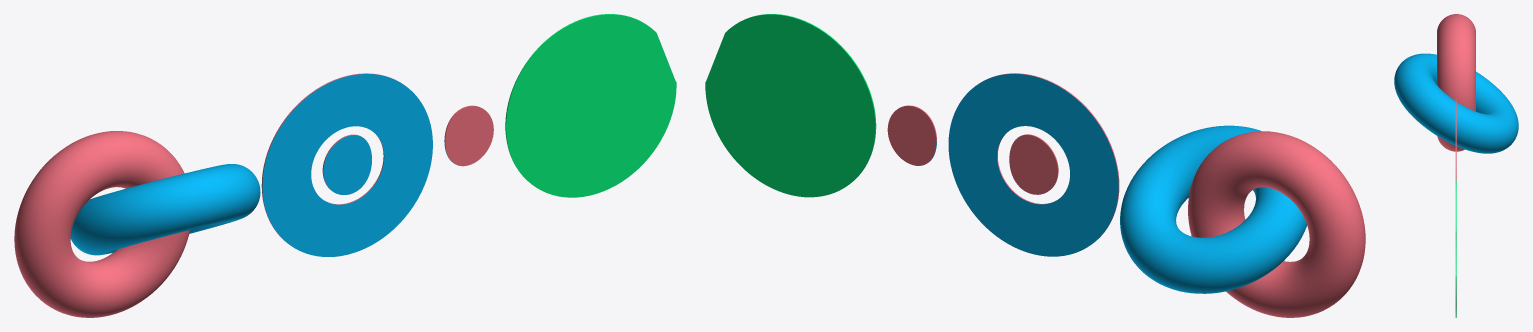
File: section.glb
3 views of the same model, side by side, from view 1: azimuth 30°, elevation 25°; view 2: azimuth 150°, elevation 25°; view 3: azimuth 270°, elevation 25° (orthographic). The views are drawn at different scales.
Parts seen in each view (by area): view 1: COMPOUND; view 2: COMPOUND; view 3: COMPOUND.
Part boxes in pixels (x1,y1,x2,y2): COMPOUND: [14, 14, 676, 317]; COMPOUND: [705, 14, 1365, 317]; COMPOUND: [1394, 14, 1518, 317].
Bounding box in the file's own units: 0.054 × 0.014 × 0.0127.
